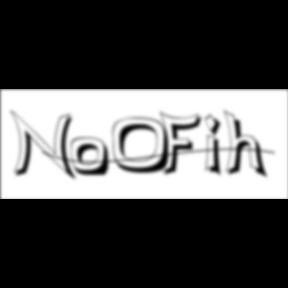F: (160, 110, 208, 178)
N: (10, 109, 80, 183)
O: (112, 117, 178, 176)
h: (225, 108, 272, 182)
i: (205, 112, 229, 180)
o: (70, 137, 112, 179)
